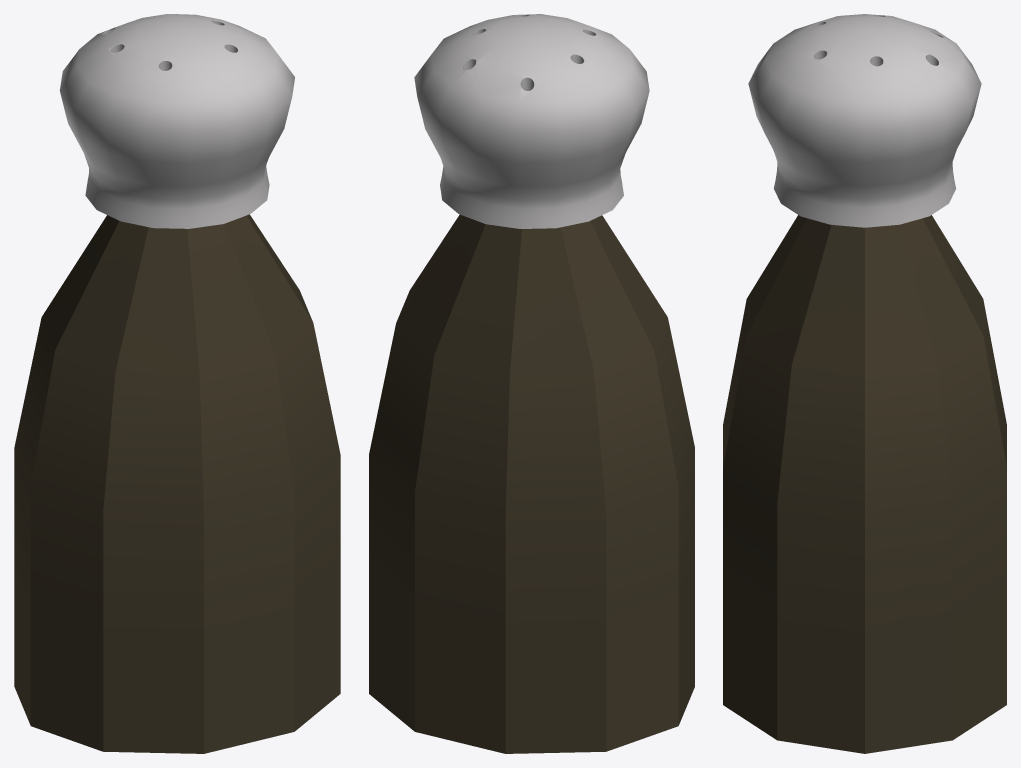
The model's file is kosyou.fbx.
3 renders of one model, left to right at view 1: azimuth 30°, elevation 25°; view 2: azimuth 150°, elevation 25°; view 3: azimuth 270°, elevation 25°, orthographic.
Visible parts, largest first — view 1: polySurface4; view 2: polySurface4; view 3: polySurface4.
Boxes of the visible parts, x1,y1,x2,y2 form: polySurface4: [14, 14, 340, 753]; polySurface4: [369, 14, 694, 753]; polySurface4: [723, 14, 1006, 753].
Size of the model in its own units: 1 by 2.16 by 0.8511.
